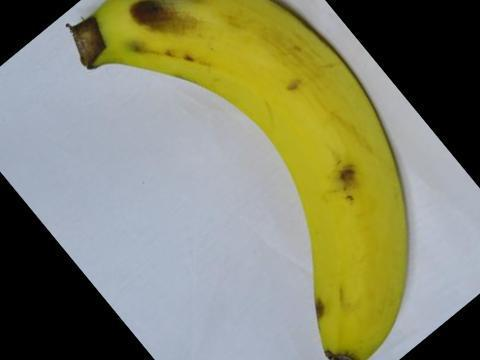freshripe: (61, 0, 434, 359)
